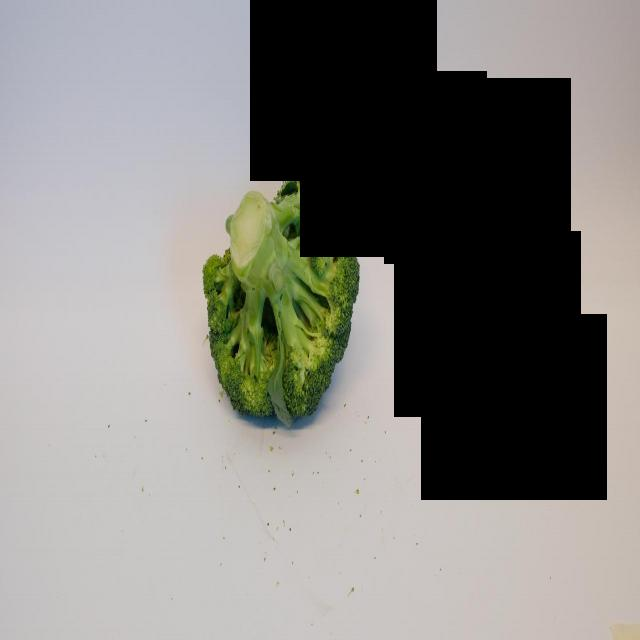broccoli: (205, 154, 364, 438)
